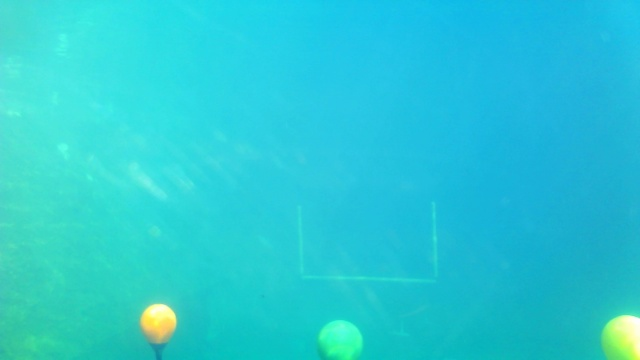buoy_red: (136, 302, 176, 346)
channel: (295, 201, 438, 282)
